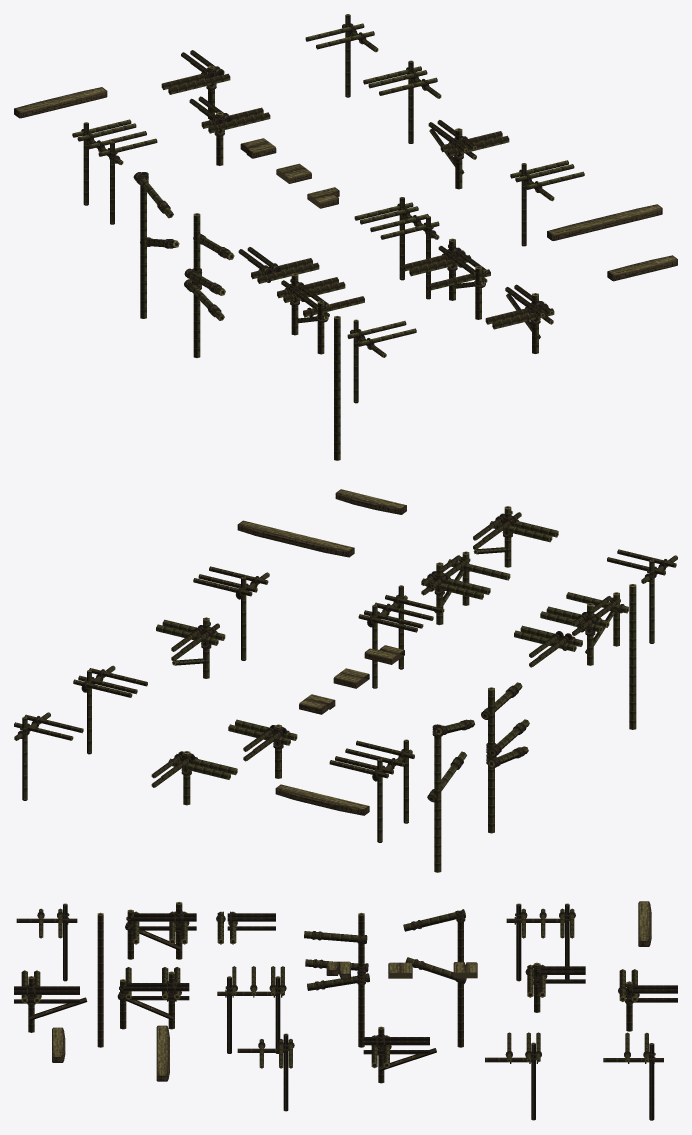
File: EnvMdrMD_Island_B_Pole_A_BK.FBX
The picture shows the model from 3 angles, top to bottom: view 1: azimuth 30°, elevation 25°; view 2: azimuth 150°, elevation 25°; view 3: azimuth 270°, elevation 25°; orthographic projection. The views are drawn at different scales.
Visible parts, largest first — view 1: EnvMdrMD_Island_B_Pole_B_Top_LF, EnvMdrMD_Island_B_Pole_B_Top_LB, EnvMdrMD_Island_B_Pole_A_RF, EnvMdrMD_Island_B_Pole_B_Under_C, EnvMdrMD_Island_B_Pole_A_RB, EnvMdrMD_Island_B_Pole_B_Top_RF, EnvMdrMD_Island_B_Pole_B_Top_RB, EnvMdrMD_Island_B_Pole_B_Under_B, EnvMdrMD_Island_B_Pole_B_Top_FR, EnvMdrMD_Island_B_Pole_A_FR, EnvMdrMD_Island_B_Pole_A_BK, EnvMdrMD_Island_B_Pole_B_Top_Only_A (+7 smaller); view 2: EnvMdrMD_Island_B_Pole_B_Top_LF, EnvMdrMD_Island_B_Pole_B_Top_LB, EnvMdrMD_Island_B_Pole_A_RF, EnvMdrMD_Island_B_Pole_B_Under_C, EnvMdrMD_Island_B_Pole_A_RB, EnvMdrMD_Island_B_Pole_B_Under_B, EnvMdrMD_Island_B_Pole_B_Top_RB, EnvMdrMD_Island_B_Pole_B_Top_RF, EnvMdrMD_Island_B_Pole_B_Top_BK, EnvMdrMD_Island_B_Pole_B_Top_FR, EnvMdrMD_Island_B_Pole_A_FR, EnvMdrMD_Island_B_Pole_B_Top_Only_A (+7 smaller); view 3: EnvMdrMD_Island_B_Pole_B_Top_LB, EnvMdrMD_Island_B_Pole_B_Under_C, EnvMdrMD_Island_B_Pole_B_Top_LF, EnvMdrMD_Island_B_Pole_B_Top_RB, EnvMdrMD_Island_B_Pole_B_Under_B, EnvMdrMD_Island_B_Pole_B_Top_RF, EnvMdrMD_Island_B_Pole_A_RB, EnvMdrMD_Island_B_Pole_A_RF, EnvMdrMD_Island_B_Pole_B_Top_BK, EnvMdrMD_Island_B_Pole_B_Top_FR, EnvMdrMD_Island_B_Pole_A_BK, EnvMdrMD_Island_B_Pole_B_Top_Loop (+10 smaller).
Boxes of the visible parts, x1=… form: EnvMdrMD_Island_B_Pole_B_Top_LF: x1=277, y1=273, x2=364, y2=354; EnvMdrMD_Island_B_Pole_B_Top_LB: x1=402, y1=238, x2=490, y2=319; EnvMdrMD_Island_B_Pole_A_RF: x1=72, y1=119, x2=157, y2=224; EnvMdrMD_Island_B_Pole_B_Under_C: x1=184, y1=213, x2=234, y2=357; EnvMdrMD_Island_B_Pole_A_RB: x1=354, y1=197, x2=439, y2=299; EnvMdrMD_Island_B_Pole_B_Top_RF: x1=428, y1=120, x2=509, y2=189; EnvMdrMD_Island_B_Pole_B_Top_RB: x1=485, y1=284, x2=554, y2=353; EnvMdrMD_Island_B_Pole_B_Under_B: x1=133, y1=172, x2=179, y2=318; EnvMdrMD_Island_B_Pole_B_Top_FR: x1=189, y1=96, x2=270, y2=165; EnvMdrMD_Island_B_Pole_A_FR: x1=510, y1=160, x2=584, y2=246; EnvMdrMD_Island_B_Pole_A_BK: x1=363, y1=60, x2=441, y2=143; EnvMdrMD_Island_B_Pole_B_Top_Only_A: x1=547, y1=204, x2=662, y2=240; EnvMdrMD_Island_B_Pole_B_Top_LF: x1=540, y1=592, x2=628, y2=665; EnvMdrMD_Island_B_Pole_B_Top_LB: x1=421, y1=551, x2=510, y2=625; EnvMdrMD_Island_B_Pole_A_RF: x1=329, y1=739, x2=414, y2=842; EnvMdrMD_Island_B_Pole_B_Under_C: x1=481, y1=682, x2=529, y2=833; EnvMdrMD_Island_B_Pole_A_RB: x1=358, y1=585, x2=444, y2=688; EnvMdrMD_Island_B_Pole_B_Under_B: x1=427, y1=719, x2=474, y2=872; EnvMdrMD_Island_B_Pole_B_Top_RB: x1=473, y1=506, x2=558, y2=567; EnvMdrMD_Island_B_Pole_B_Top_RF: x1=156, y1=617, x2=225, y2=678; EnvMdrMD_Island_B_Pole_B_Top_BK: x1=151, y1=751, x2=237, y2=805; EnvMdrMD_Island_B_Pole_B_Top_FR: x1=228, y1=719, x2=297, y2=778; EnvMdrMD_Island_B_Pole_A_FR: x1=193, y1=566, x2=269, y2=660; EnvMdrMD_Island_B_Pole_B_Top_Only_A: x1=237, y1=520, x2=354, y2=557; EnvMdrMD_Island_B_Pole_B_Top_LB: x1=117, y1=967, x2=189, y2=1029; EnvMdrMD_Island_B_Pole_B_Under_C: x1=304, y1=912, x2=369, y2=1047; EnvMdrMD_Island_B_Pole_B_Top_LF: x1=125, y1=902, x2=196, y2=959; EnvMdrMD_Island_B_Pole_B_Top_RB: x1=14, y1=970, x2=87, y2=1032; EnvMdrMD_Island_B_Pole_B_Under_B: x1=403, y1=909, x2=466, y2=1047; EnvMdrMD_Island_B_Pole_B_Top_RF: x1=363, y1=1026, x2=436, y2=1083; EnvMdrMD_Island_B_Pole_A_RB: x1=217, y1=966, x2=286, y2=1053; EnvMdrMD_Island_B_Pole_A_RF: x1=506, y1=903, x2=575, y2=981; EnvMdrMD_Island_B_Pole_B_Top_BK: x1=618, y1=969, x2=677, y2=1031; EnvMdrMD_Island_B_Pole_B_Top_FR: x1=525, y1=962, x2=585, y2=1012; EnvMdrMD_Island_B_Pole_A_BK: x1=485, y1=1032, x2=541, y2=1120; EnvMdrMD_Island_B_Pole_B_Top_Loop: x1=216, y1=911, x2=275, y2=944.
Size of the model in its own units: 1703 by 650 by 2737.
Materials: 1 (1 with a texture image).
